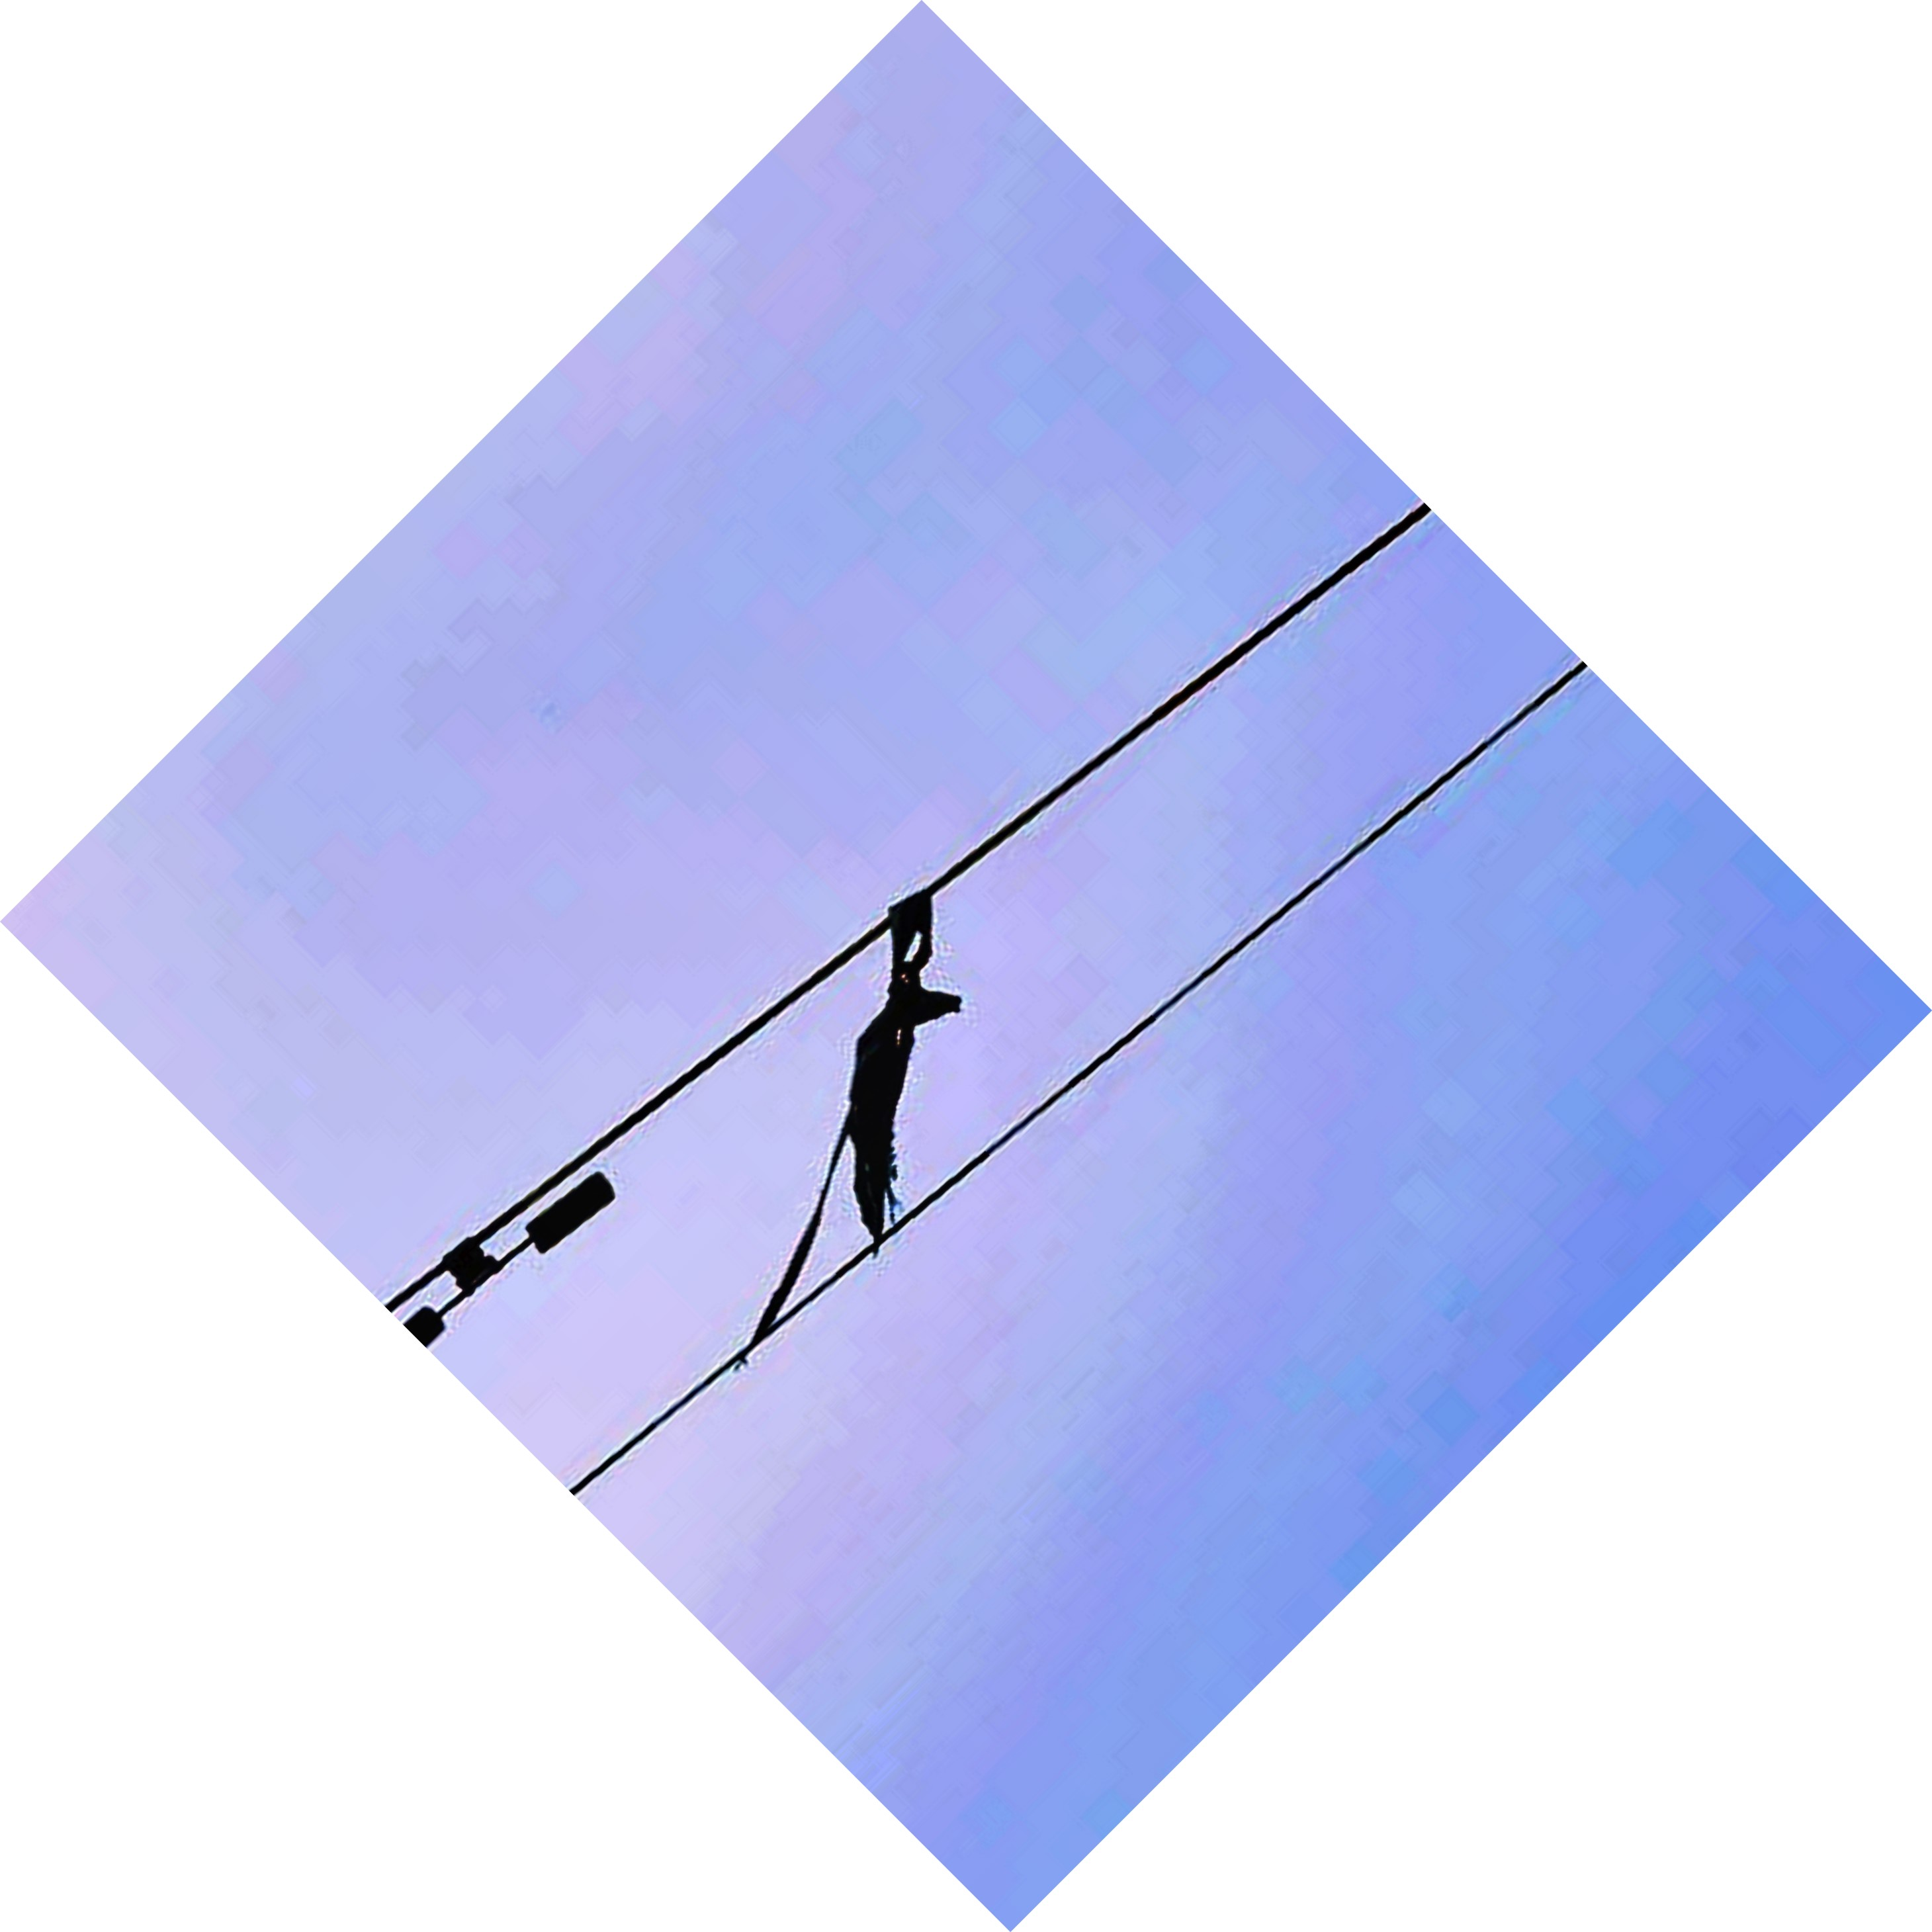wire foreign body: (770, 858, 984, 1343)
